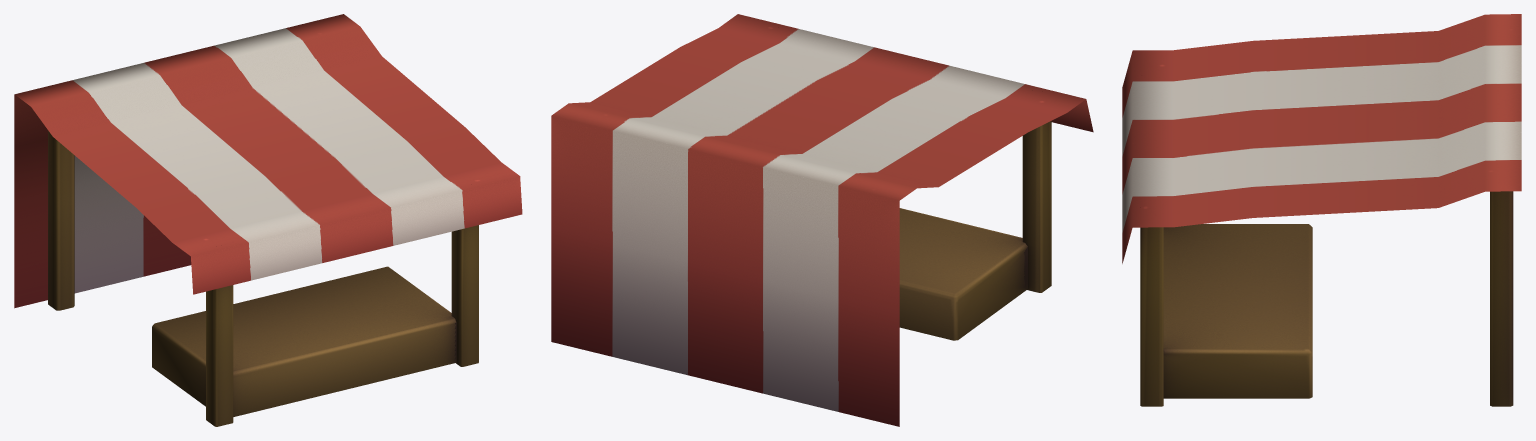
File: shop_asset.fbx
3 renders of one model, left to right at view 1: azimuth 30°, elevation 25°; view 2: azimuth 150°, elevation 25°; view 3: azimuth 270°, elevation 25°, orthographic. The views are drawn at different scales.
Visible parts, largest first — view 1: Plane, Cube, Cube.007, Cube.008; view 2: Plane, Cube, Cube.007; view 3: Plane, Cube, Cube.008, Cube.007.
Part boxes in pixels (<box>): Plane: <box>14,14,522,308</box>; Cube: <box>152,266,456,416</box>; Cube.007: <box>206,225,478,426</box>; Cube.008: <box>48,130,74,310</box>; Plane: <box>551,14,1093,426</box>; Cube: <box>899,208,1027,340</box>; Cube.007: <box>1022,121,1051,292</box>; Plane: <box>1122,14,1521,263</box>; Cube: <box>1163,224,1312,398</box>; Cube.008: <box>1490,191,1513,406</box>; Cube.007: <box>1140,227,1163,406</box>.
Bounding box in the file's own units: 491 × 302 × 464.
Materials: 1 (1 with a texture image).
